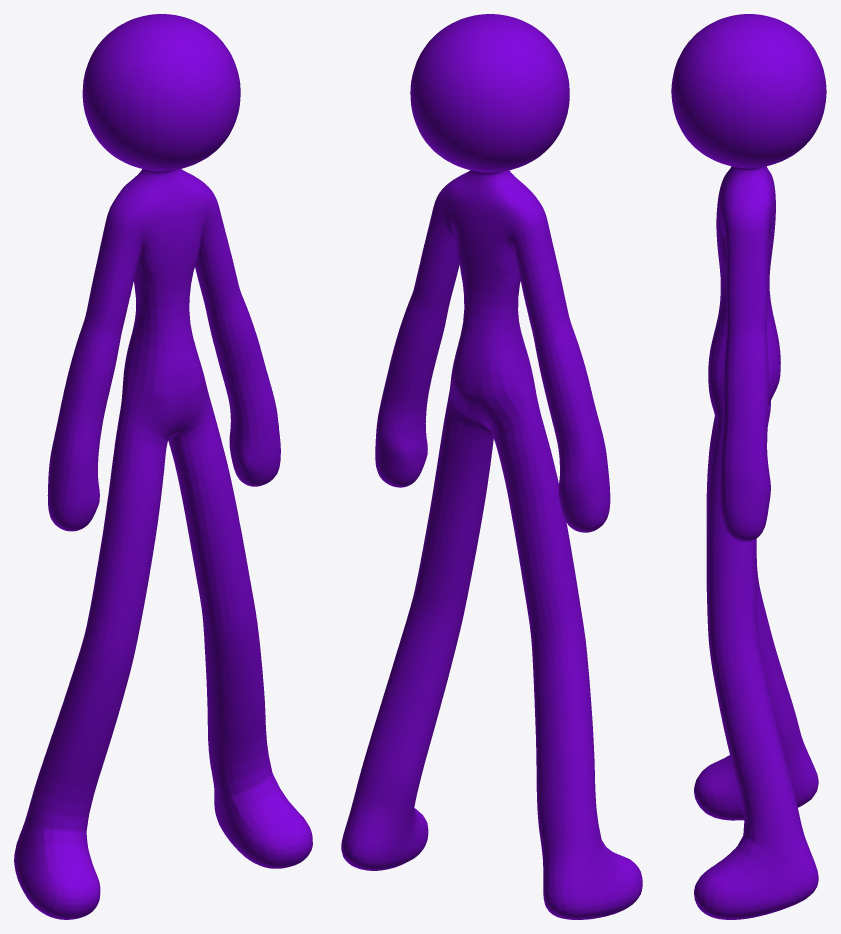
3 renders of one model, left to right at view 1: azimuth 30°, elevation 25°; view 2: azimuth 150°, elevation 25°; view 3: azimuth 270°, elevation 25°, orthographic. The views are drawn at different scales.
Visible parts, largest first — view 1: world; view 2: world; view 3: world.
Part boxes in pixels (x1,y1,x2,y2): world: (14,14,312,919); world: (341,14,642,919); world: (671,14,826,919).
Size of the model in its own units: 0.3327 by 1 by 0.1671.
1 material, 1 textured.
